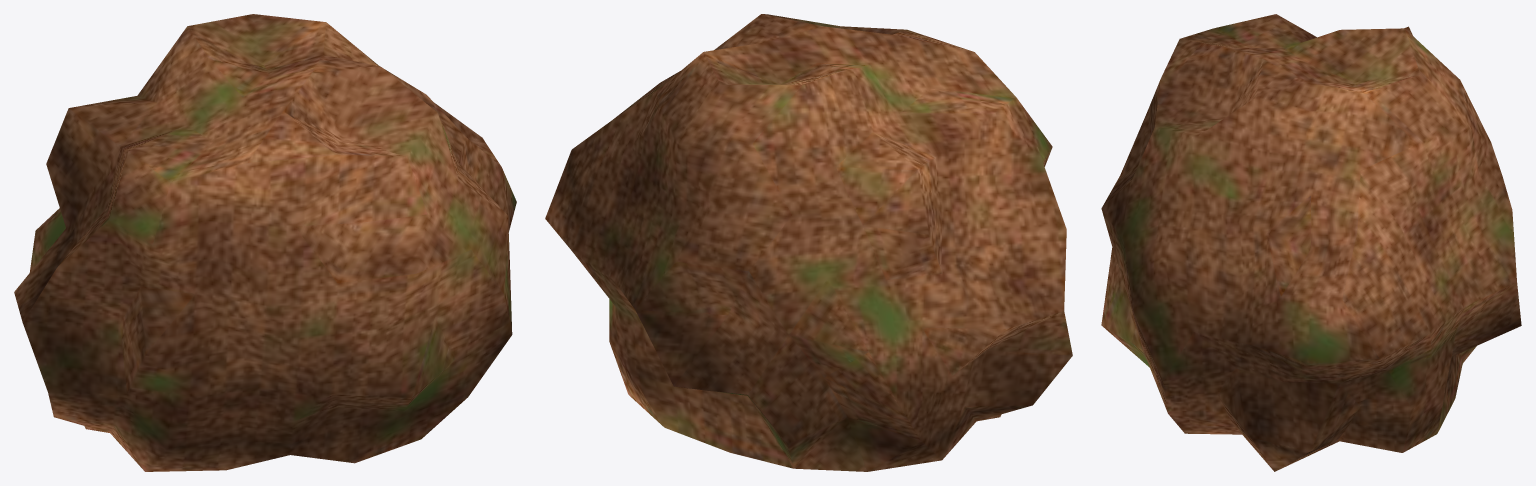
File: Laterite_Rock.glb
The picture shows the model from 3 angles, left to right: view 1: azimuth 30°, elevation 25°; view 2: azimuth 150°, elevation 25°; view 3: azimuth 270°, elevation 25°; orthographic projection. The views are drawn at different scales.
Parts seen in each view (by area): view 1: Laterite_Rock; view 2: Laterite_Rock; view 3: Laterite_Rock.
Boxes of the visible parts, bbox=[...] form: Laterite_Rock: bbox=[14, 14, 516, 471]; Laterite_Rock: bbox=[545, 14, 1072, 471]; Laterite_Rock: bbox=[1101, 14, 1521, 471].
Size of the model in its own units: 1.01 by 0.6993 by 0.7646.
1 material, 1 textured.
